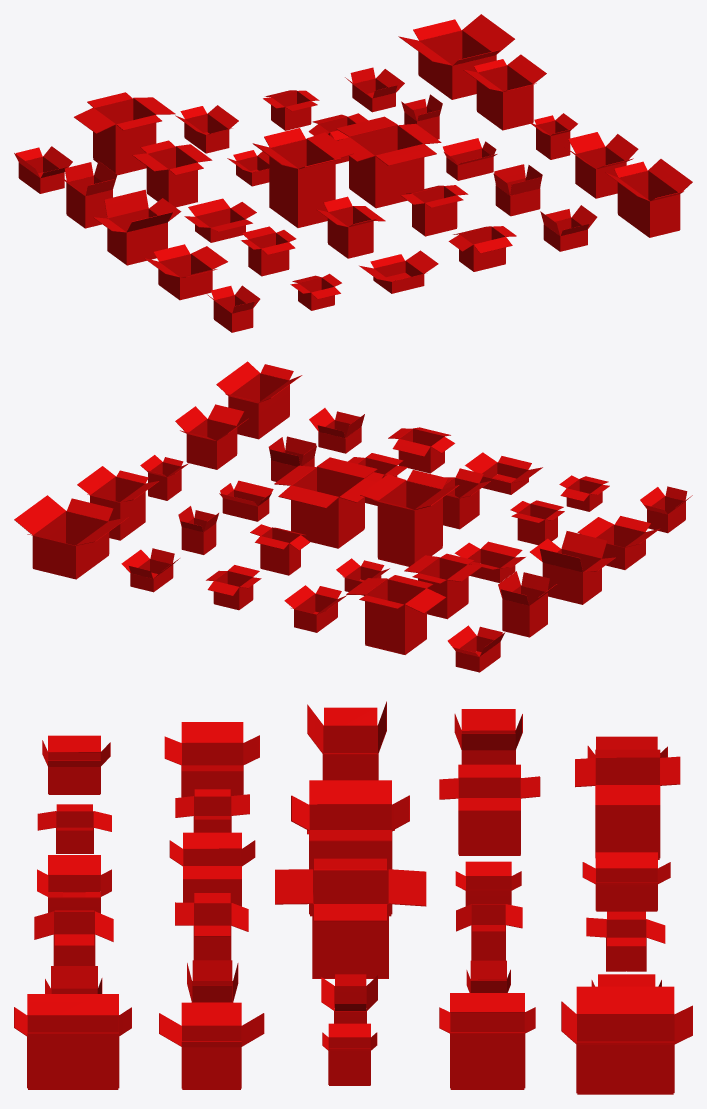
Rendered from boxes_grp.fbx.
3 renders of one model, top to bottom at view 1: azimuth 30°, elevation 25°; view 2: azimuth 150°, elevation 25°; view 3: azimuth 270°, elevation 25°, orthographic. The views are drawn at different scales.
Visible parts, largest first — view 1: box_18, box_13, box_30, box_10, box_26, box_3, box_29, box_9, box_27, box_2, box_4, box_12 (+18 smaller); view 2: box_18, box_13, box_30, box_10, box_26, box_3, box_27, box_29, box_4, box_9, box_2, box_16 (+18 smaller); view 3: box_18, box_30, box_26, box_10, box_29, box_13, box_9, box_27, box_2, box_3, box_12, box_15 (+17 smaller).
Boxes of the visible parts, x1=… form: box_18: x1=336, y1=116, x2=441, y2=208; box_13: x1=252, y1=128, x2=353, y2=227; box_30: x1=398, y1=14, x2=514, y2=99; box_10: x1=74, y1=92, x2=175, y2=175; box_26: x1=605, y1=159, x2=692, y2=237; box_3: x1=93, y1=189, x2=181, y2=265; box_29: x1=463, y1=54, x2=546, y2=130; box_9: x1=132, y1=140, x2=212, y2=207; box_27: x1=564, y1=132, x2=638, y2=198; box_2: x1=144, y1=244, x2=227, y2=300; box_4: x1=57, y1=161, x2=117, y2=228; box_12: x1=316, y1=196, x2=385, y2=258; box_18: x1=274, y1=457, x2=377, y2=548; box_13: x1=360, y1=470, x2=459, y2=566; box_30: x1=14, y1=495, x2=128, y2=579; box_10: x1=346, y1=575, x2=445, y2=654; box_26: x1=216, y1=361, x2=302, y2=439; box_3: x1=530, y1=531, x2=615, y2=604; box_27: x1=175, y1=404, x2=248, y2=469; box_29: x1=77, y1=466, x2=158, y2=540; box_4: x1=498, y1=571, x2=556, y2=637; box_9: x1=404, y1=553, x2=482, y2=619; box_2: x1=577, y1=516, x2=659, y2=569; box_16: x1=388, y1=427, x2=454, y2=473; box_18: x1=275, y1=858, x2=426, y2=978; box_30: x1=561, y1=986, x2=692, y2=1094; box_26: x1=14, y1=994, x2=131, y2=1089; box_10: x1=575, y1=749, x2=680, y2=859; box_29: x1=439, y1=993, x2=535, y2=1089; box_13: x1=291, y1=780, x2=409, y2=916; box_9: x1=439, y1=764, x2=540, y2=855; box_27: x1=159, y1=1002, x2=264, y2=1089; box_2: x1=164, y1=722, x2=259, y2=797; box_3: x1=307, y1=701, x2=386, y2=780; box_12: x1=169, y1=832, x2=255, y2=906; box_15: x1=582, y1=852, x2=670, y2=911.
Bounding box in the file's own units: 592 × 78.49 × 492.
